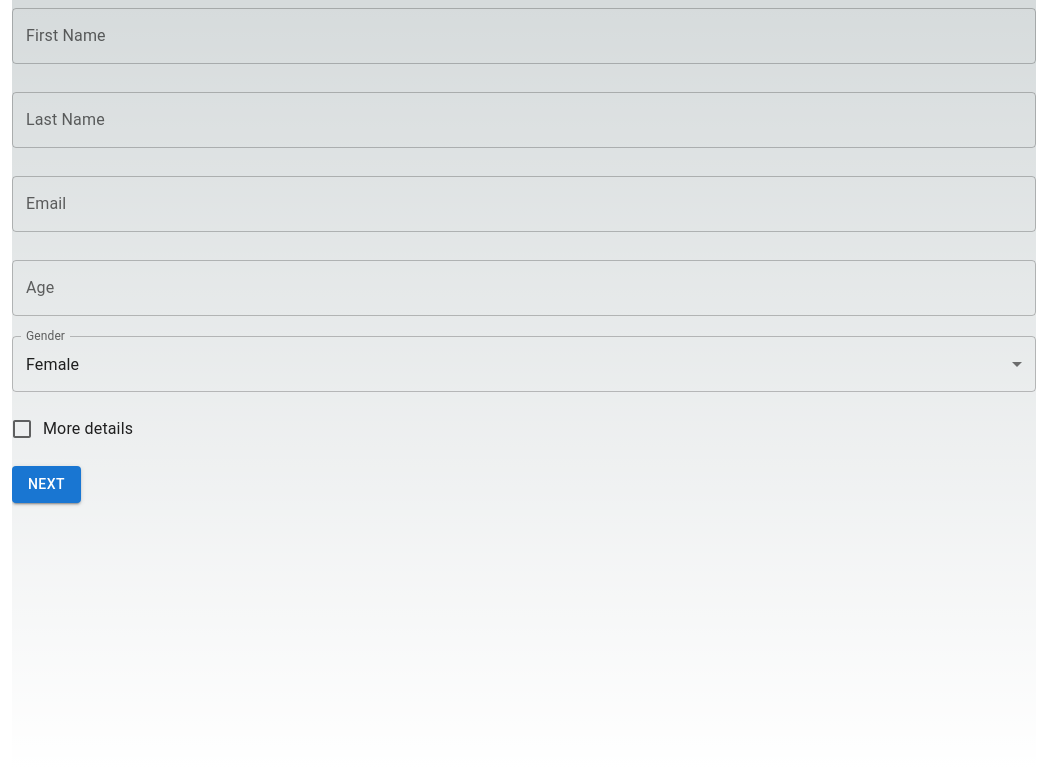
FormFirstStep fails › if first name is not provided
The width and height of the screenshot is (1048, 768).
In the field labelled "Age": [524, 288] box [12,260,1036,316], type "18"
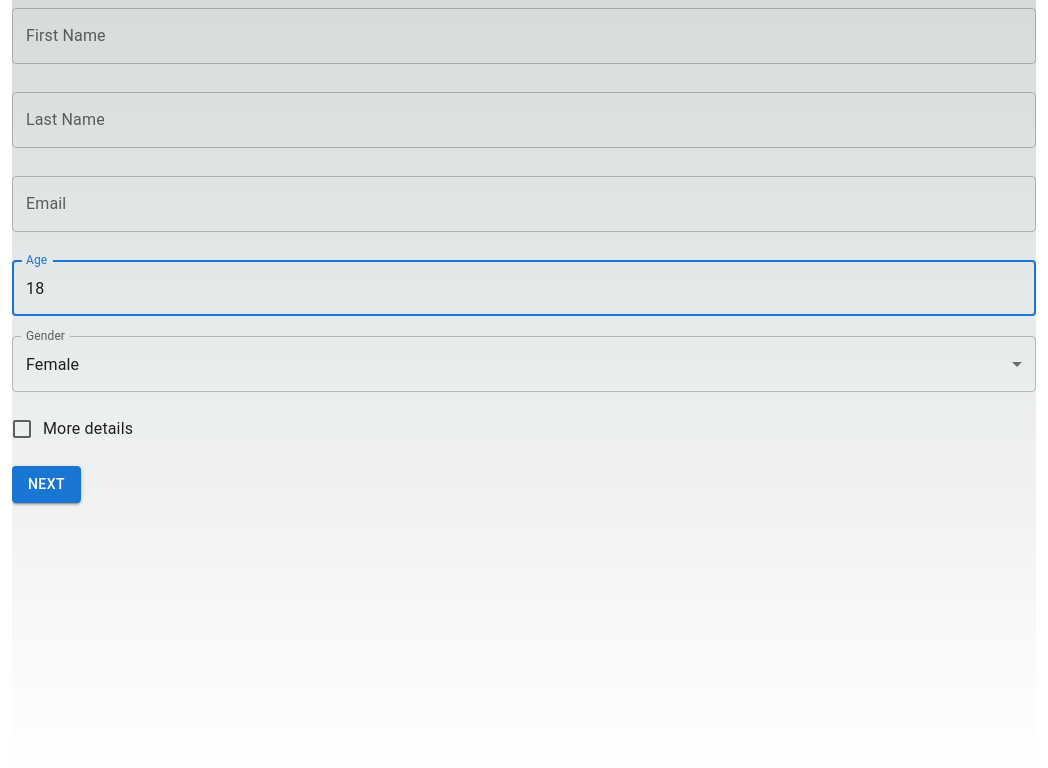
Click the button "Next": [46, 484] box [12,466,81,502]
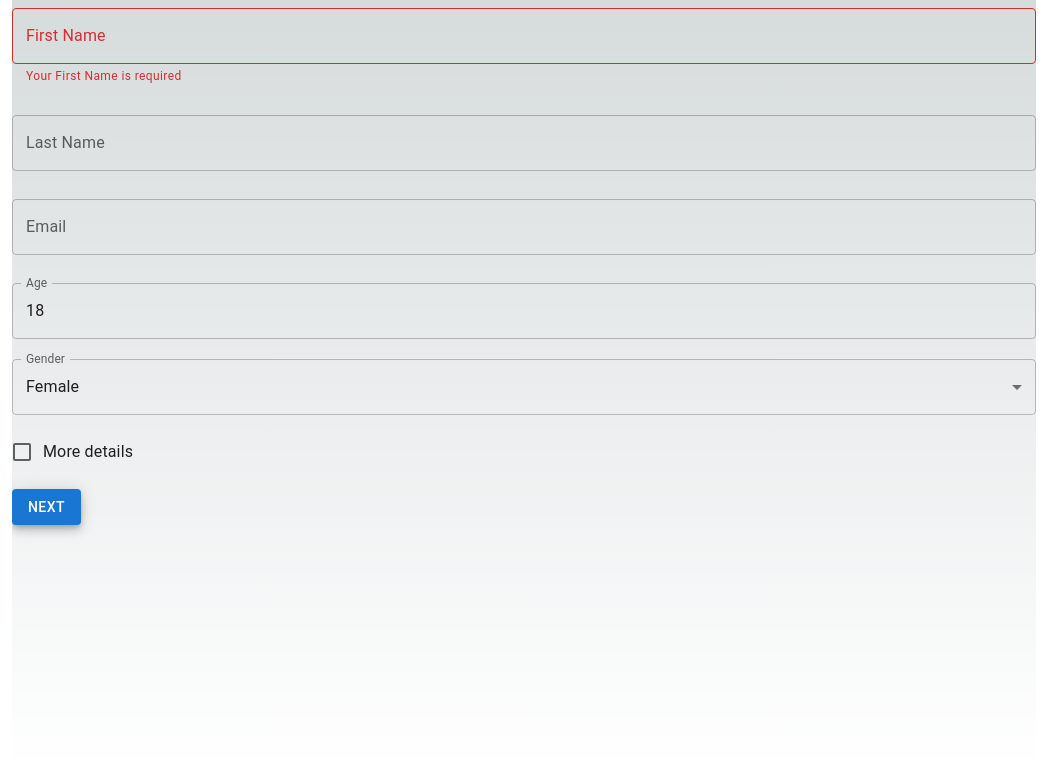
Result: the text "Your First Name is required" is shown at [26,69,182,83]
